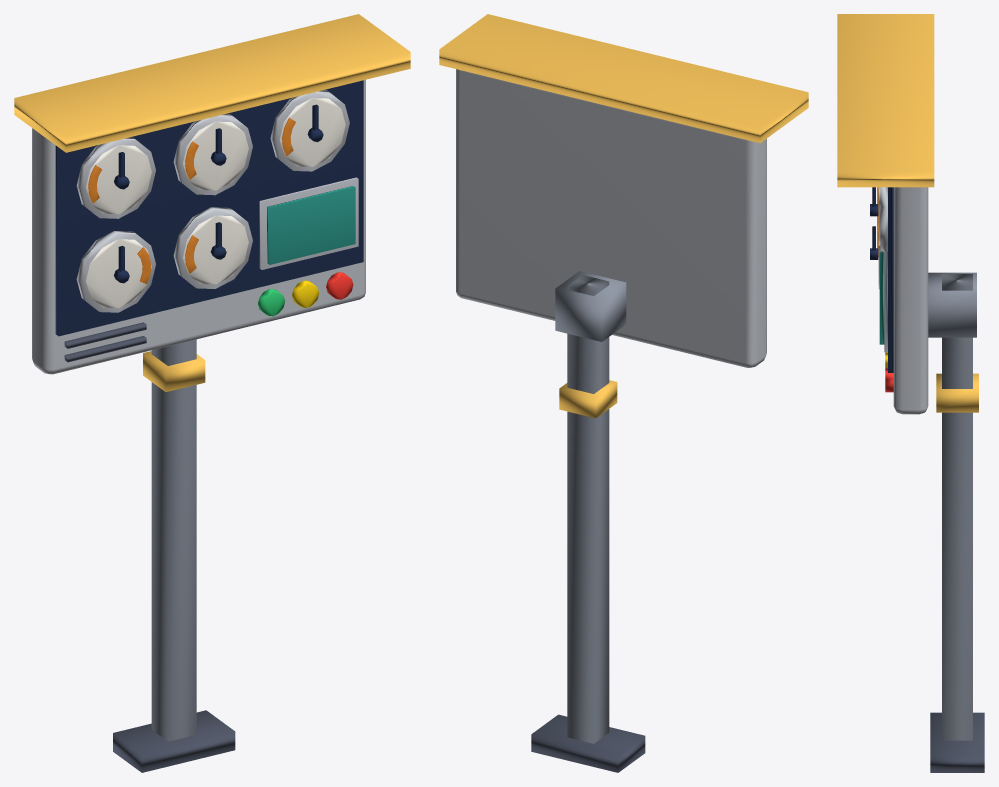
File: Fx_SeatMonitor_CommsPower.fbx
3 renders of one model, left to right at view 1: azimuth 30°, elevation 25°; view 2: azimuth 150°, elevation 25°; view 3: azimuth 270°, elevation 25°, orthographic. The views are drawn at different scales.
Parts seen in each view (by area): view 1: Fx_SeatMonitor_CommsPower.Frame, Fx_SeatMonitor_CommsPower.Hood, Fx_SeatMonitor_CommsPower.Dials, Fx_SeatMonitor_CommsPower.Stand, Fx_SeatMonitor_CommsPower.MonScreen; view 2: Fx_SeatMonitor_CommsPower.Frame, Fx_SeatMonitor_CommsPower.Stand, Fx_SeatMonitor_CommsPower.Hood; view 3: Fx_SeatMonitor_CommsPower.Stand, Fx_SeatMonitor_CommsPower.Hood, Fx_SeatMonitor_CommsPower.Frame, Fx_SeatMonitor_CommsPower.Dials, Fx_SeatMonitor_CommsPower.MonScreen.
Part boxes in pixels (<box>): Fx_SeatMonitor_CommsPower.Frame: <box>32,80,365,374</box>; Fx_SeatMonitor_CommsPower.Hood: <box>14,14,410,152</box>; Fx_SeatMonitor_CommsPower.Dials: <box>76,90,349,312</box>; Fx_SeatMonitor_CommsPower.Stand: <box>113,339,235,772</box>; Fx_SeatMonitor_CommsPower.MonScreen: <box>267,186,355,264</box>; Fx_SeatMonitor_CommsPower.Frame: <box>456,69,766,367</box>; Fx_SeatMonitor_CommsPower.Stand: <box>531,271,645,772</box>; Fx_SeatMonitor_CommsPower.Hood: <box>439,14,808,143</box>; Fx_SeatMonitor_CommsPower.Stand: <box>928,272,984,772</box>; Fx_SeatMonitor_CommsPower.Hood: <box>837,14,934,187</box>; Fx_SeatMonitor_CommsPower.Frame: <box>884,187,928,414</box>; Fx_SeatMonitor_CommsPower.Dials: <box>877,187,887,289</box>; Fx_SeatMonitor_CommsPower.MonScreen: <box>879,252,884,344</box>.
Bounding box in the file's own units: 0.96 × 1.87 × 0.38.
1 material, 1 textured.
